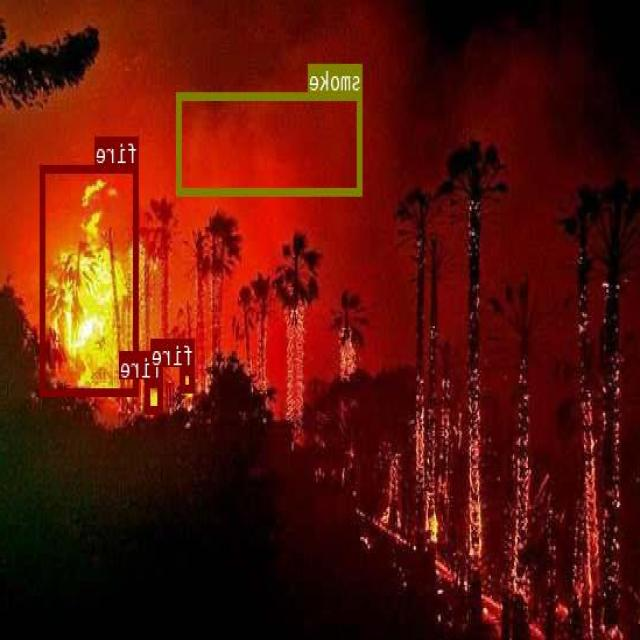fire: (41, 164, 139, 395), (146, 379, 164, 412), (181, 366, 195, 392)
smoke: (178, 91, 363, 194)
